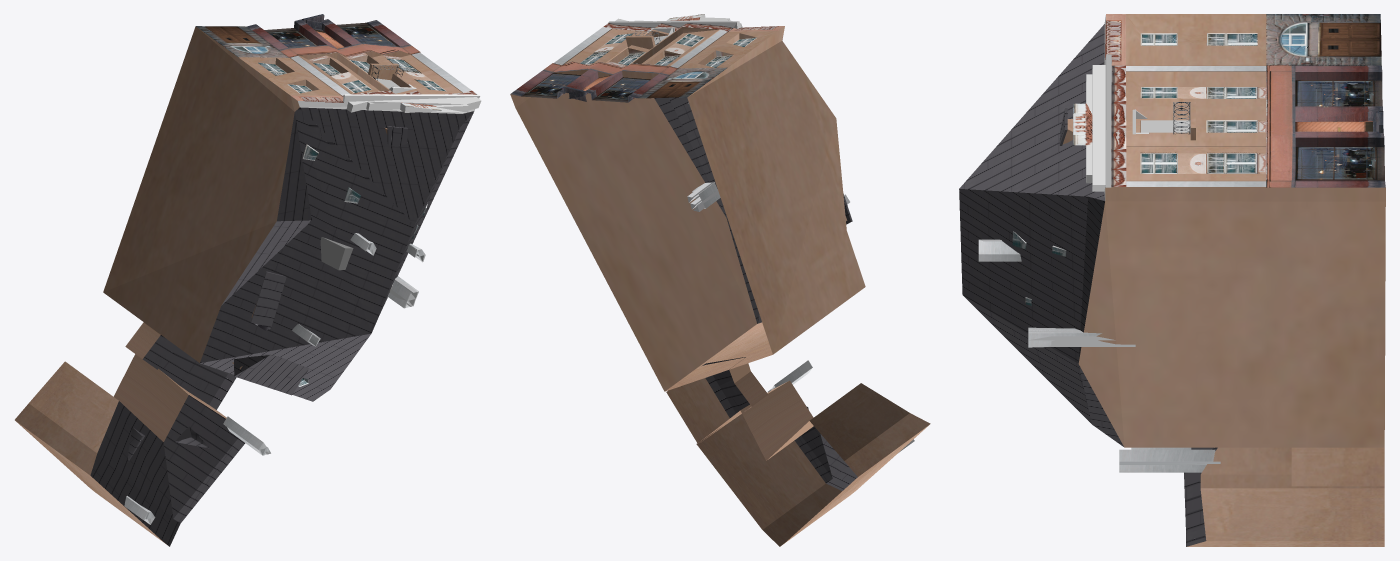
Rendered from Viru12-origo.obj.
3 views of the same model, side by side, from view 1: azimuth 30°, elevation 25°; view 2: azimuth 150°, elevation 25°; view 3: azimuth 270°, elevation 25° (orthographic). The views are drawn at different scales.
Parts seen in each view (by area): view 1: Building; view 2: Building; view 3: Building.
Boxes of the visible parts, <box> form: Building: <box>15,14,481,546</box>; Building: <box>510,14,930,546</box>; Building: <box>959,14,1385,546</box>.
Bounding box in the file's own units: 28.62 × 33.5 × 21.68.
